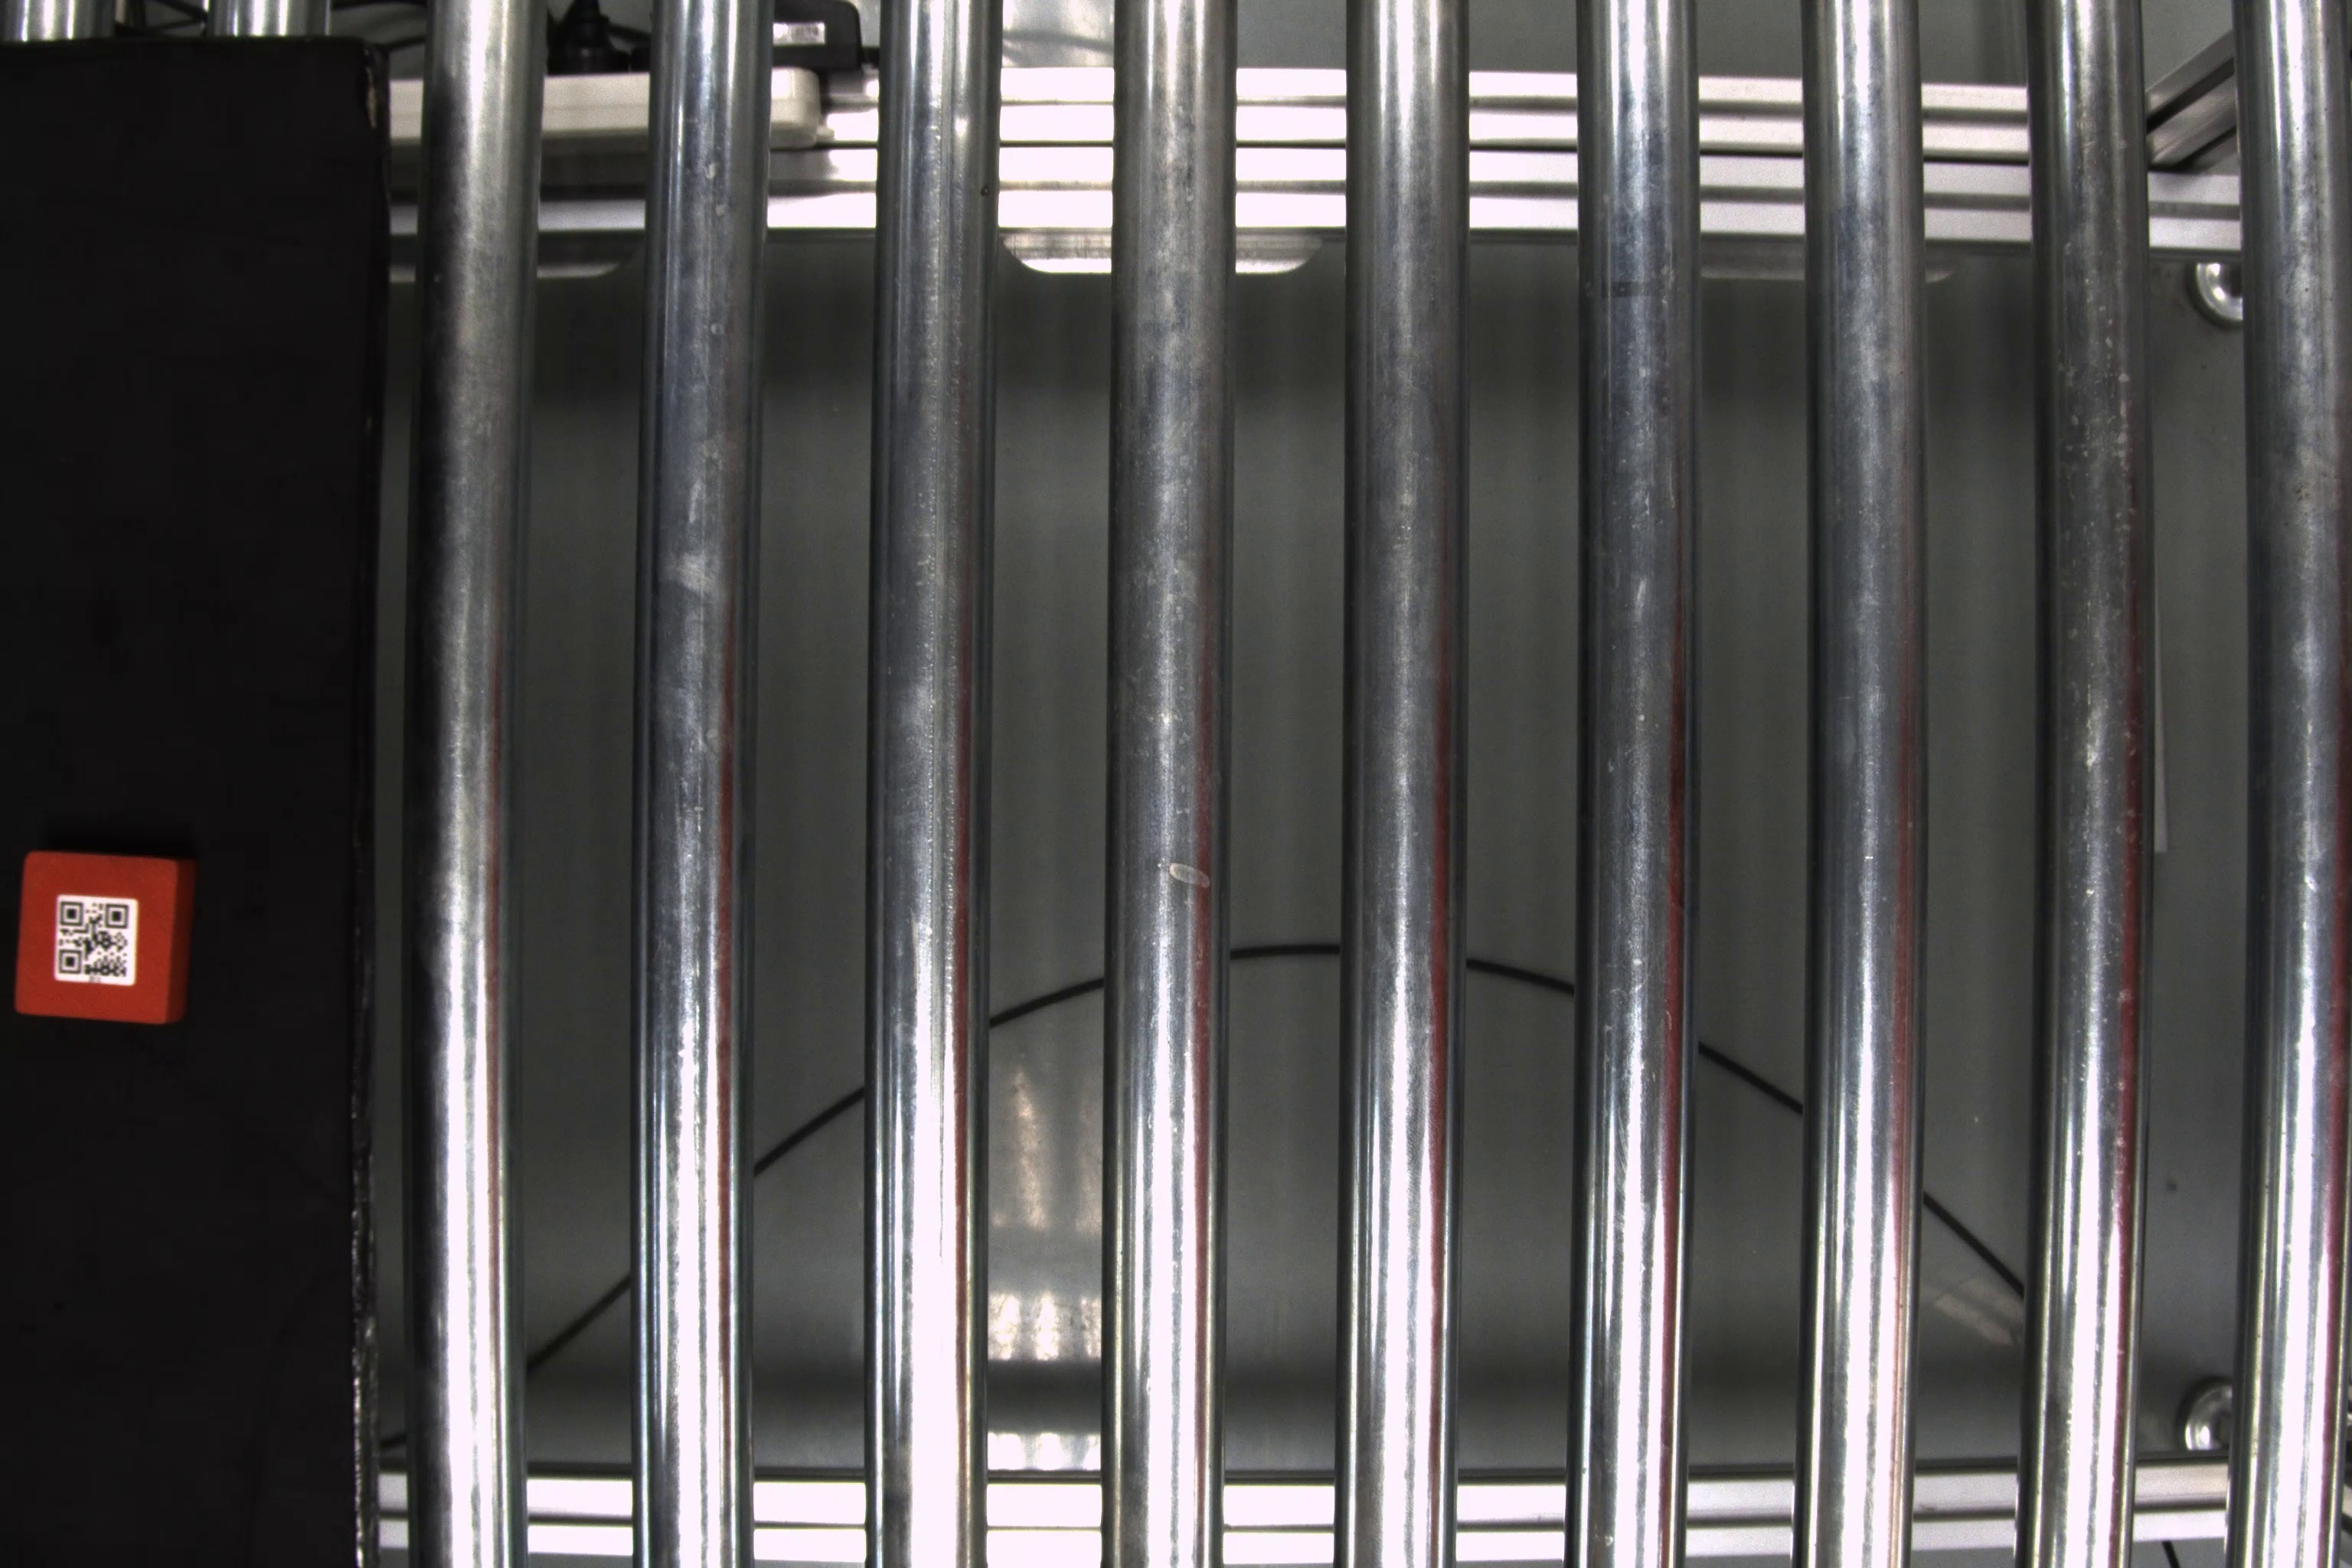wood: (16, 847, 196, 1024)
